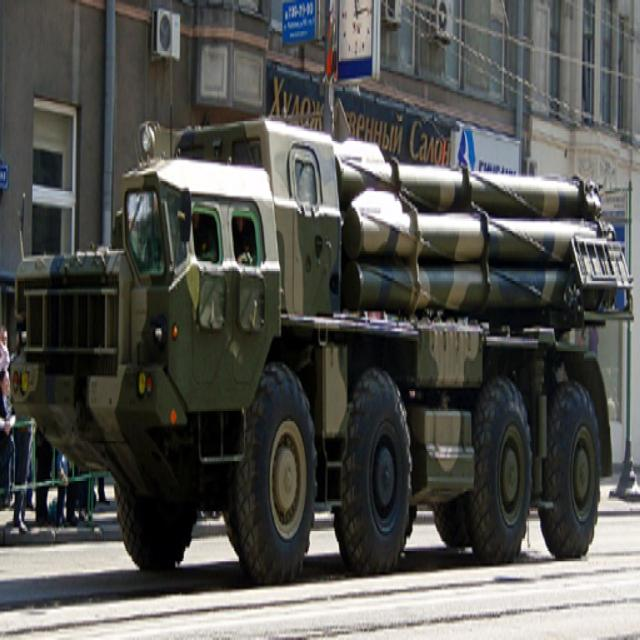MLRS: (4, 112, 632, 578)
